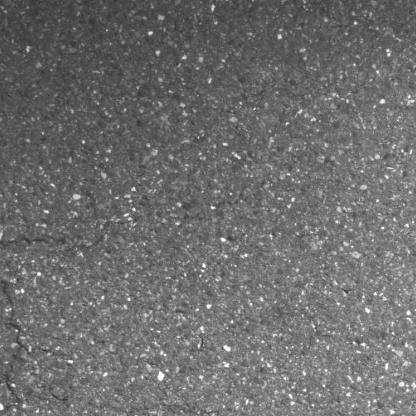Cracks: (0, 277, 72, 400), (0, 235, 51, 263)
